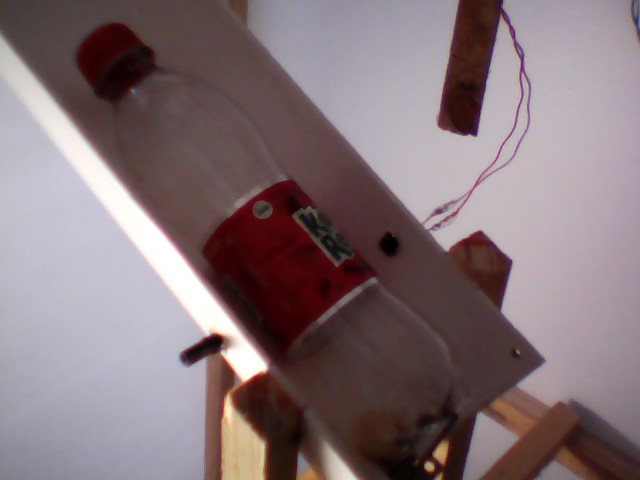plastico: (73, 18, 478, 469)
